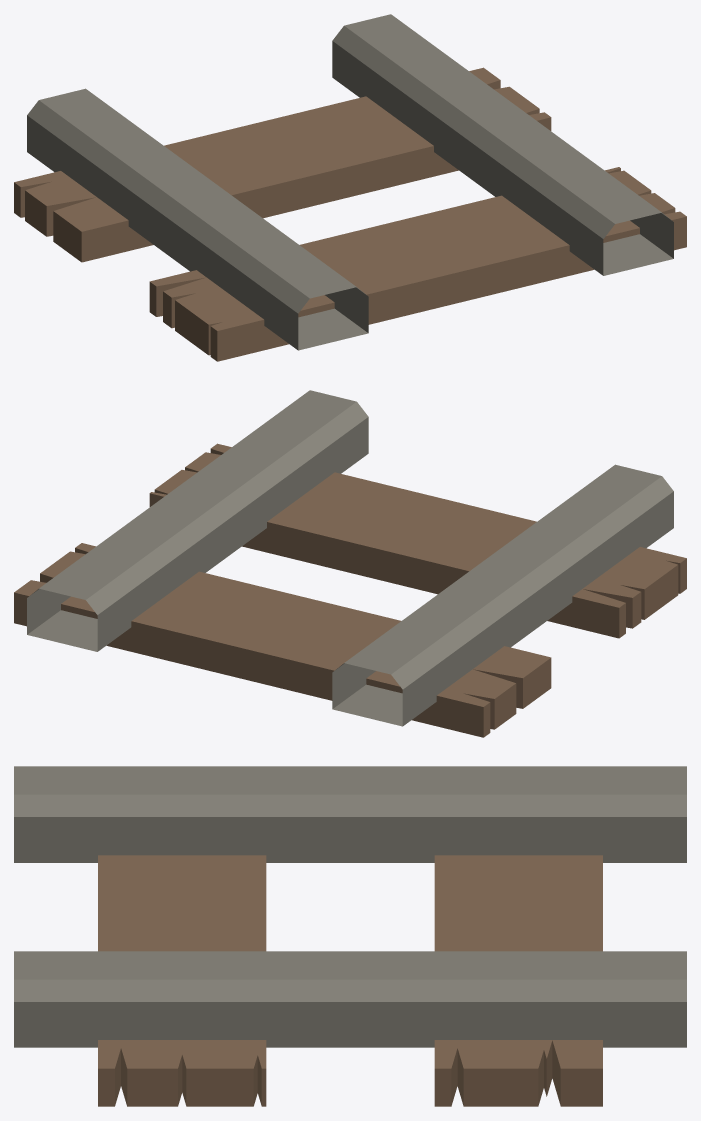
Rendered from Cave_Prop_Railway_Straight_2.obj.
3 renders of one model, top to bottom at view 1: azimuth 30°, elevation 25°; view 2: azimuth 150°, elevation 25°; view 3: azimuth 270°, elevation 25°, orthographic. The views are drawn at different scales.
Parts seen in each view (by area): view 1: object1, object3, object4, object2; view 2: object1, object3, object2, object4; view 3: object1, object3, object4, object2.
Boxes of the visible parts, left/top/right/bottom form: object1: left=27, top=88, right=368, bottom=350; object3: left=332, top=14, right=673, bottom=275; object4: left=149, top=167, right=686, bottom=361; object2: left=14, top=67, right=551, bottom=262; object1: left=332, top=464, right=673, bottom=726; object3: left=27, top=390, right=368, bottom=651; object2: left=14, top=543, right=551, bottom=737; object4: left=149, top=443, right=686, bottom=638; object1: left=14, top=766, right=686, bottom=862; object3: left=14, top=951, right=686, bottom=1047; object4: left=98, top=855, right=266, bottom=1106; object2: left=434, top=855, right=602, bottom=1106.
Bounding box in the file's own units: 1 × 0.15 × 1.
